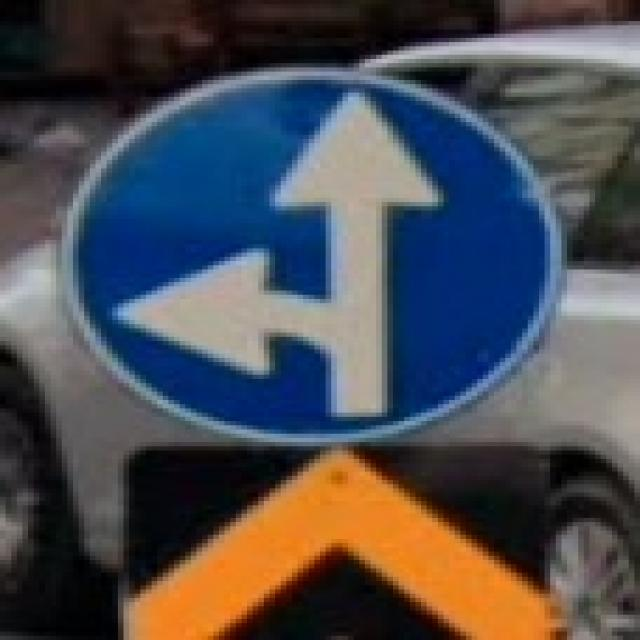Straight or Left: (63, 71, 562, 445)
